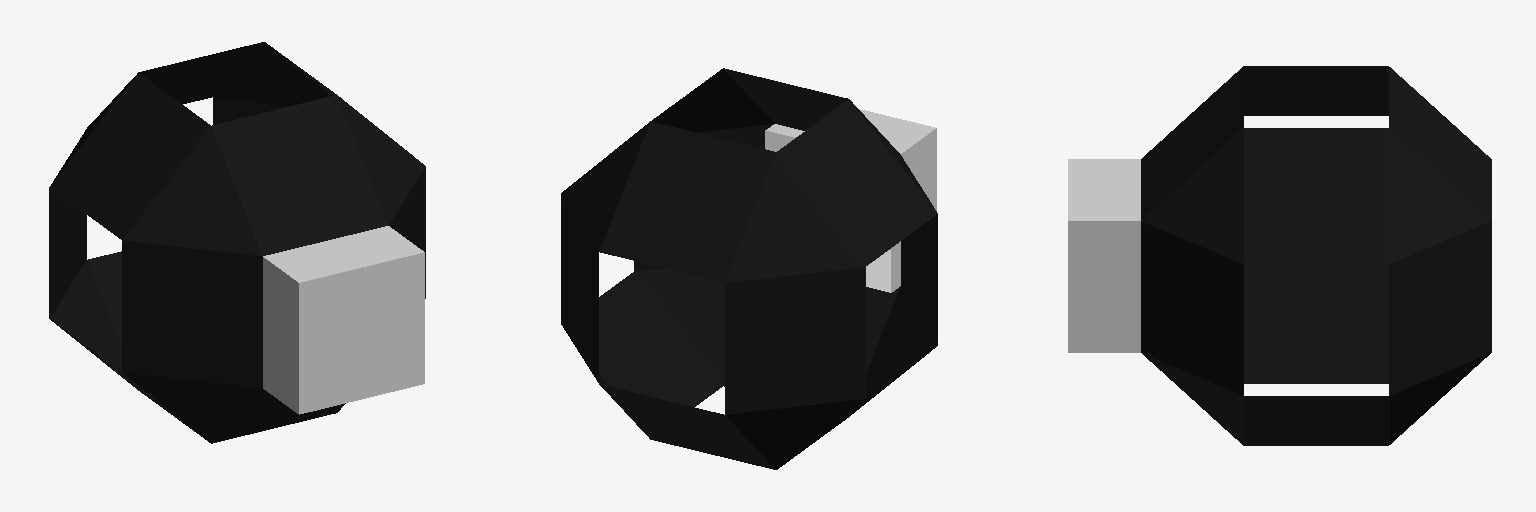
The model's file is okteen.obj.
3 views of the same model, side by side, from view 1: azimuth 30°, elevation 25°; view 2: azimuth 150°, elevation 25°; view 3: azimuth 270°, elevation 25° (orthographic).
Parts seen in each view (by area): view 1: okteen_main, okteen_connector; view 2: okteen_main, okteen_connector; view 3: okteen_main, okteen_connector.
Boxes of the visible parts, box(x1,y1,x2,y2) form: okteen_main: box(49, 42, 425, 443); okteen_connector: box(263, 226, 424, 414); okteen_main: box(561, 68, 937, 469); okteen_connector: box(765, 109, 936, 292); okteen_main: box(1141, 66, 1491, 445); okteen_connector: box(1068, 159, 1140, 352).
Size of the model in its own units: 7.08 by 7.07 by 8.54.